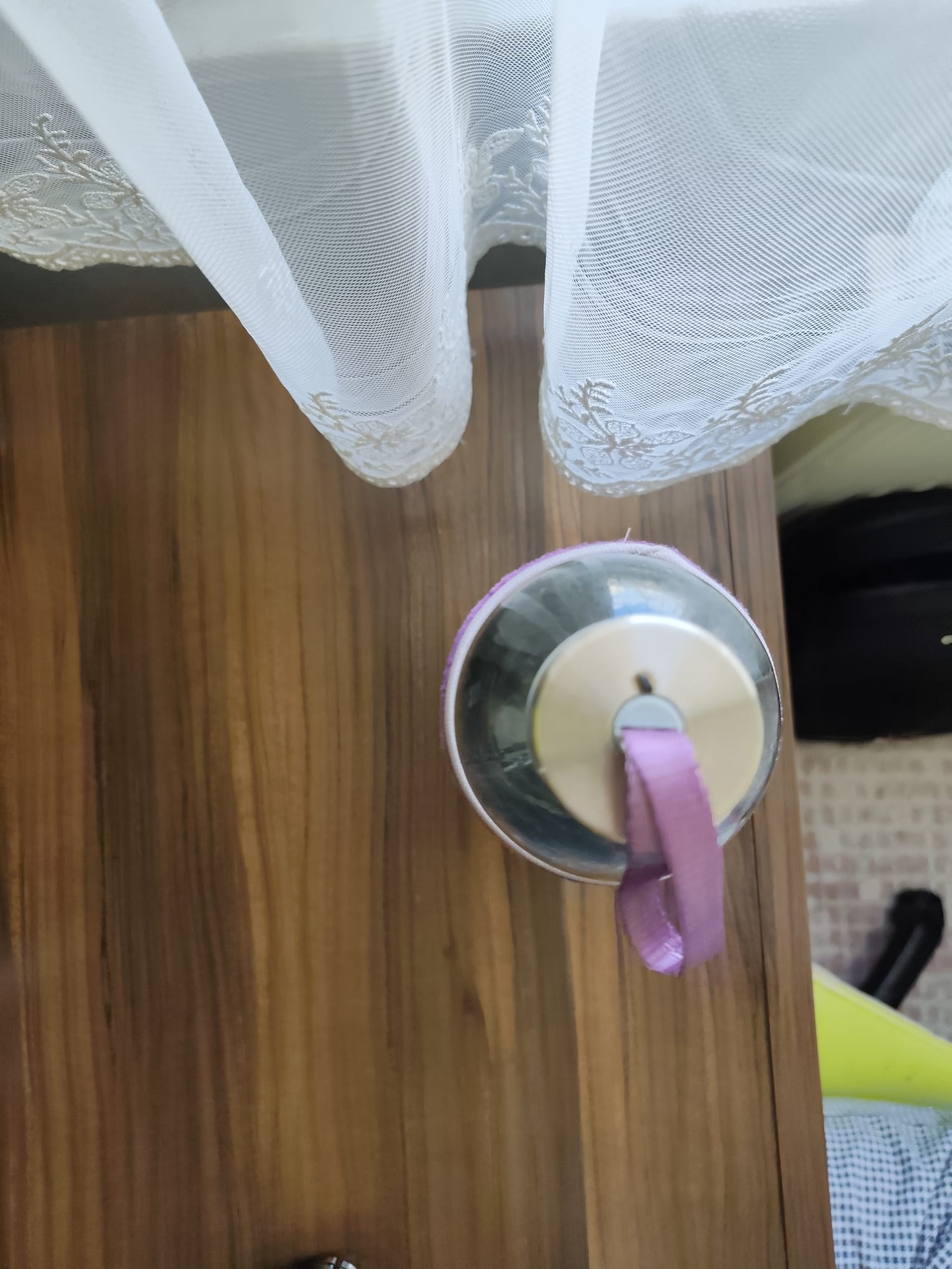su_sisesi: (408, 517, 832, 989)
